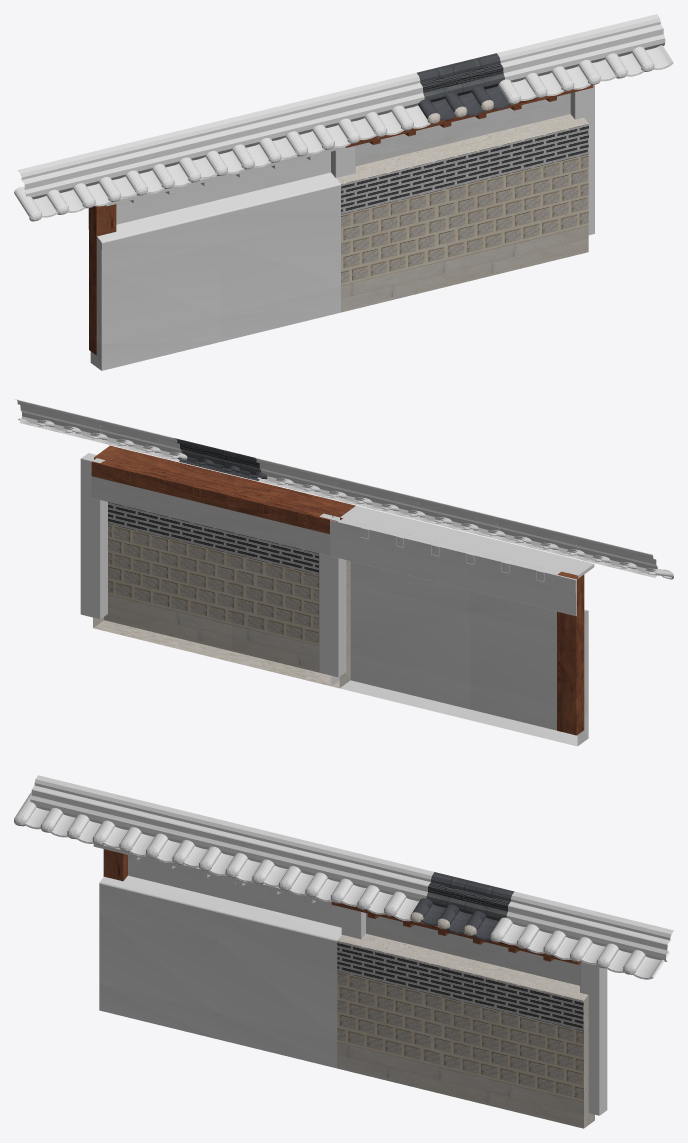
The model's file is house-fence.fbx.
The picture shows the model from 3 angles, top to bottom: view 1: azimuth 30°, elevation 25°; view 2: azimuth 150°, elevation 25°; view 3: azimuth 330°, elevation 25°; orthographic projection.
Visible parts, largest first — view 1: SM_GCG_StoneFence_A, SM_GCG_StoneFence_A_1, SM_GCG_Fenceroof_A_2, SM_GCG_Fenceroof_A_5, SM_GCG_Fenceroof_A_1, SM_GCG_Fenceroof_A_4, SM_GCG_Fenceroof_A_9, SM_GCG_Fenceroof_A_6, SM_GCG_Fenceroof_A_10, SM_GCG_Fenceroof_A_7, SM_GCG_FencePillar_A, SM_GCG_FencePillar_A_2 (+1 smaller); view 2: SM_GCG_StoneFence_A, SM_GCG_StoneFence_A_1, SM_GCG_FencePillar_A_2, SM_GCG_FencePillar_A, SM_GCG_FencePillar_A_1, SM_GCG_Fenceroof_A_5, SM_GCG_Fenceroof_A_2, SM_GCG_Fenceroof_A_4, SM_GCG_Fenceroof_A_7, SM_GCG_Fenceroof_A_9, SM_GCG_Fenceroof_A_10, SM_GCG_Fenceroof_A_1 (+1 smaller); view 3: SM_GCG_StoneFence_A, SM_GCG_StoneFence_A_1, SM_GCG_Fenceroof_A_2, SM_GCG_Fenceroof_A_1, SM_GCG_Fenceroof_A_5, SM_GCG_Fenceroof_A_4, SM_GCG_Fenceroof_A_9, SM_GCG_Fenceroof_A_6, SM_GCG_Fenceroof_A_7, SM_GCG_Fenceroof_A_10, SM_GCG_FencePillar_A_2, SM_GCG_FencePillar_A_1 (+1 smaller).
Part boxes in pixels (x1,y1,x2,y2): SM_GCG_StoneFence_A: [336, 85, 593, 312]; SM_GCG_StoneFence_A_1: [88, 146, 345, 370]; SM_GCG_Fenceroof_A_2: [577, 14, 673, 85]; SM_GCG_Fenceroof_A_5: [14, 150, 111, 221]; SM_GCG_Fenceroof_A_1: [417, 53, 510, 124]; SM_GCG_Fenceroof_A_4: [177, 111, 271, 182]; SM_GCG_Fenceroof_A_9: [497, 33, 590, 104]; SM_GCG_Fenceroof_A_6: [257, 92, 350, 162]; SM_GCG_Fenceroof_A_10: [338, 72, 430, 143]; SM_GCG_Fenceroof_A_7: [98, 131, 191, 202]; SM_GCG_FencePillar_A: [89, 204, 116, 355]; SM_GCG_FencePillar_A_2: [570, 84, 594, 235]; SM_GCG_StoneFence_A: [91, 445, 355, 688]; SM_GCG_StoneFence_A_1: [330, 505, 594, 746]; SM_GCG_FencePillar_A_2: [80, 453, 107, 619]; SM_GCG_FencePillar_A: [557, 571, 584, 735]; SM_GCG_FencePillar_A_1: [319, 513, 346, 677]; SM_GCG_Fenceroof_A_5: [570, 535, 673, 579]; SM_GCG_Fenceroof_A_2: [14, 399, 107, 442]; SM_GCG_Fenceroof_A_4: [413, 496, 505, 539]; SM_GCG_Fenceroof_A_7: [492, 516, 584, 558]; SM_GCG_Fenceroof_A_9: [95, 419, 187, 461]; SM_GCG_Fenceroof_A_10: [255, 458, 346, 500]; SM_GCG_Fenceroof_A_1: [174, 438, 267, 481]; SM_GCG_StoneFence_A: [331, 902, 594, 1128]; SM_GCG_StoneFence_A_1: [93, 844, 341, 1068]; SM_GCG_Fenceroof_A_2: [570, 911, 673, 979]; SM_GCG_Fenceroof_A_1: [410, 872, 514, 940]; SM_GCG_Fenceroof_A_5: [14, 775, 117, 843]; SM_GCG_Fenceroof_A_4: [172, 814, 275, 882]; SM_GCG_Fenceroof_A_9: [490, 891, 593, 959]; SM_GCG_Fenceroof_A_6: [252, 833, 355, 901]; SM_GCG_Fenceroof_A_7: [92, 795, 196, 862]; SM_GCG_Fenceroof_A_10: [330, 853, 434, 921]; SM_GCG_FencePillar_A_2: [580, 962, 607, 1115]; SM_GCG_FencePillar_A_1: [341, 907, 365, 939].
Size of what is drawn, in the model's own units: 933 by 291 by 55.19.
